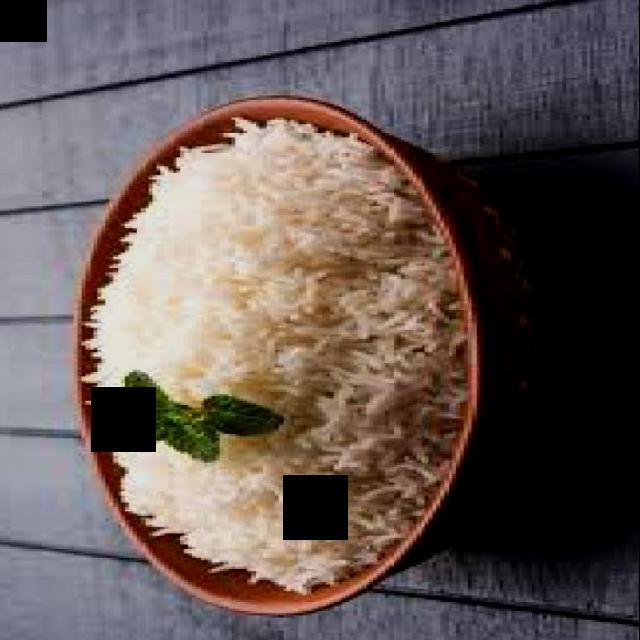rice: (91, 118, 471, 590)
